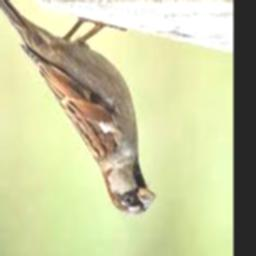Sparrow: (0, 0, 156, 214)
